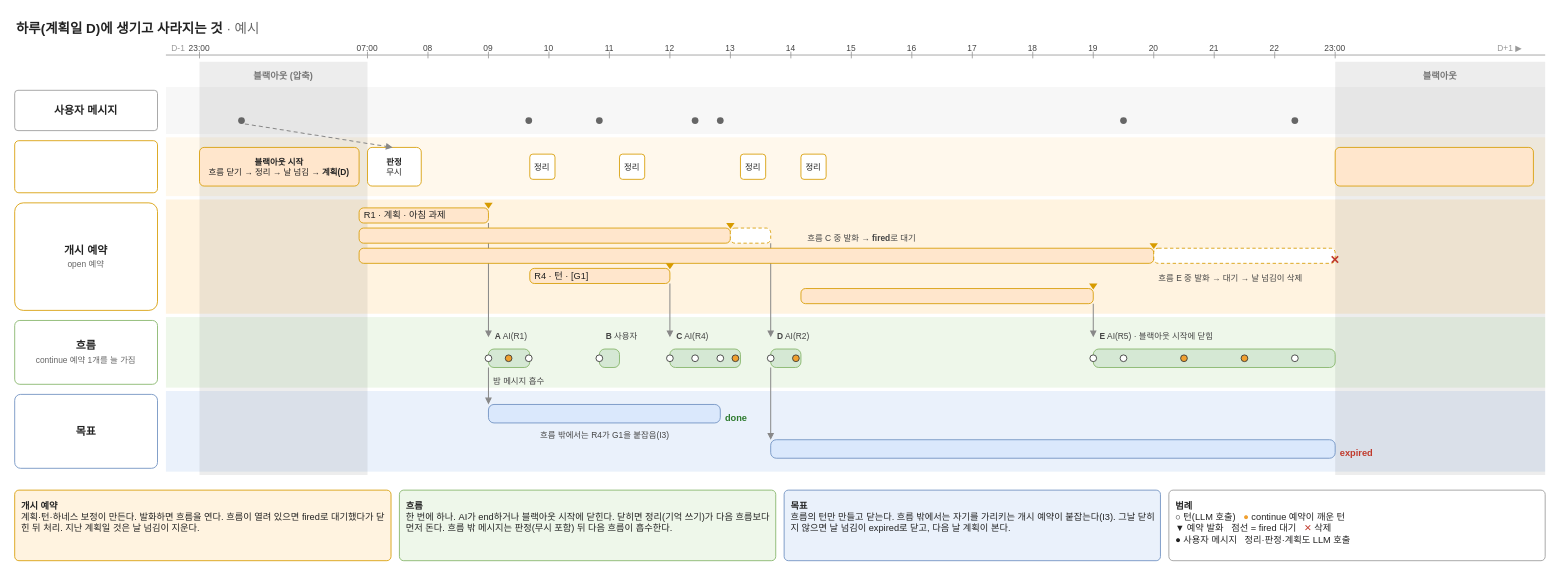
This 1561x575 diagram has some shape labels left out. The shapes that lost their labels are listed below. From the top down, each one's centre as x and y in pixels, then its label:
point (855, 110): "내일 일찍 운동할게" · 저장만
point (86, 166): 흐름 밖 작업 판정 · 정리 · 날 넘김 · 계획
point (1433, 166): 블랙아웃 시작 흐름 E 닫기 → 정리 → 날 넘김 → 계획(D+1)
point (544, 235): R2 · 계획 · 점심 확인
point (756, 255): R3 · 계획 · 저녁 회고
point (946, 296): R5 · 턴 · [G2] 운동 확인
point (604, 413): G1 알고리즘 1문제 · 마감 12:00
point (1052, 448): G2 운동 30분 · 마감 19:00 · 19:30 "아직" → 진행 메모 갱신
